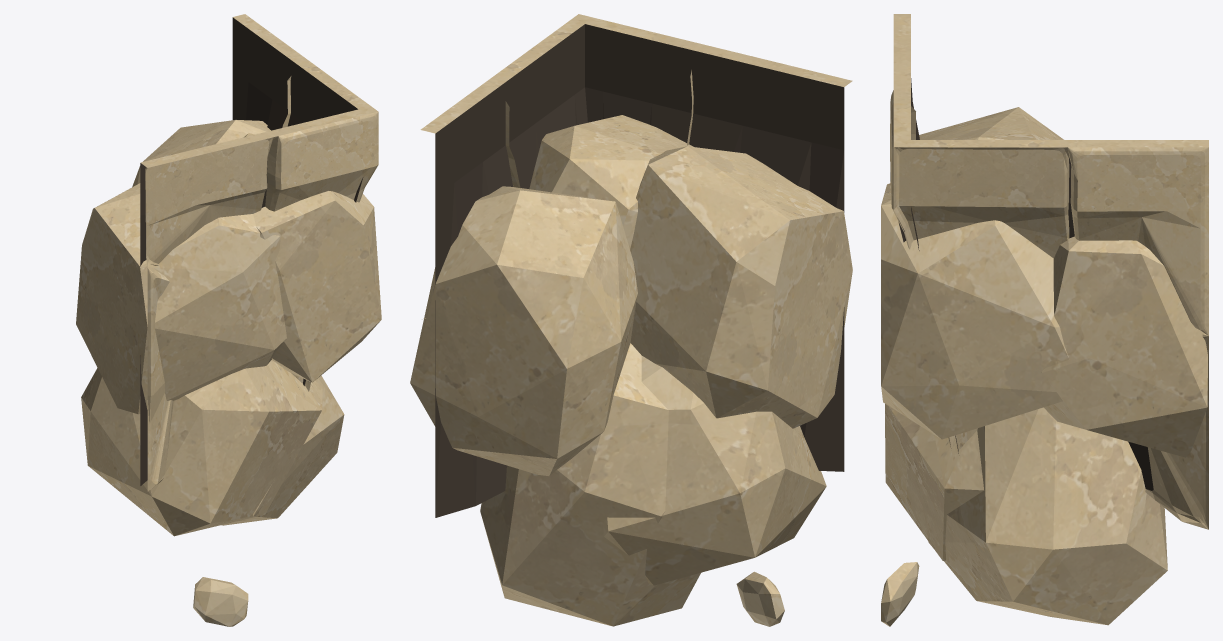
Rendered from ground_bottom_square_corner_07.glb.
3 views of the same model, side by side, from view 1: azimuth 30°, elevation 25°; view 2: azimuth 150°, elevation 25°; view 3: azimuth 270°, elevation 25° (orthographic). The views are drawn at different scales.
Visible parts, largest first — view 1: GroundBottomSquareCorner07_Body; view 2: GroundBottomSquareCorner07_Body; view 3: GroundBottomSquareCorner07_Body.
Part boxes in pixels (x1,y1,x2,y2): GroundBottomSquareCorner07_Body: [76, 14, 381, 626]; GroundBottomSquareCorner07_Body: [410, 14, 852, 626]; GroundBottomSquareCorner07_Body: [881, 14, 1208, 626].
Bounding box in the file's own units: 1.04 × 1.98 × 1.04.
10 materials, 9 textured.
